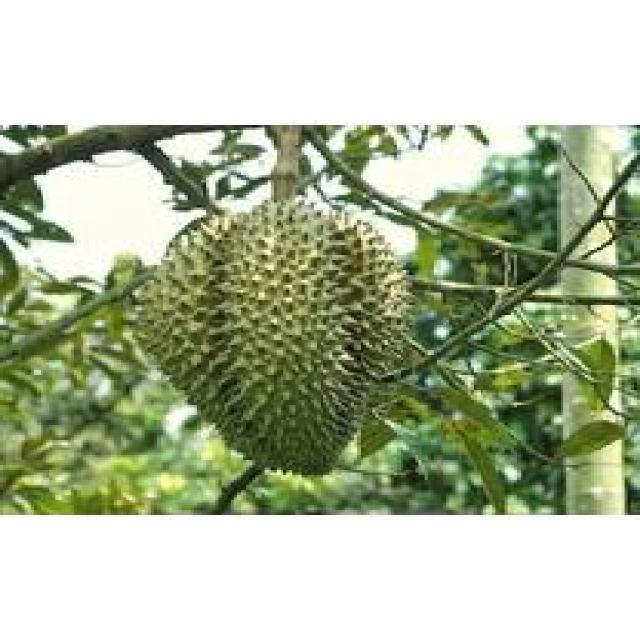fruit: (101, 168, 434, 492)
